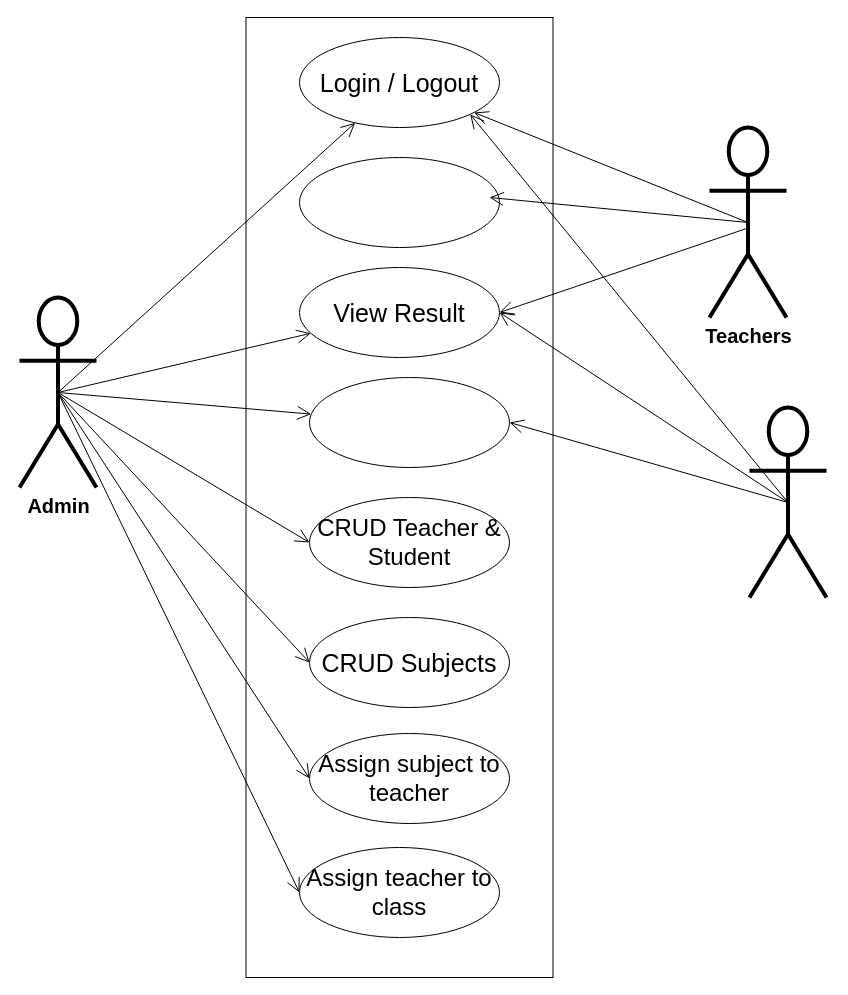
Image size: 848x995. Some labels were removed from this diagram. The shapes that lost their labels are listed below. From the top down, each one's box as (x1, y1, x2, y2) in pixels, then its label:
(298, 156, 500, 248): Upload Result
(308, 376, 510, 468): Upload Profile
(747, 405, 828, 599): Students
